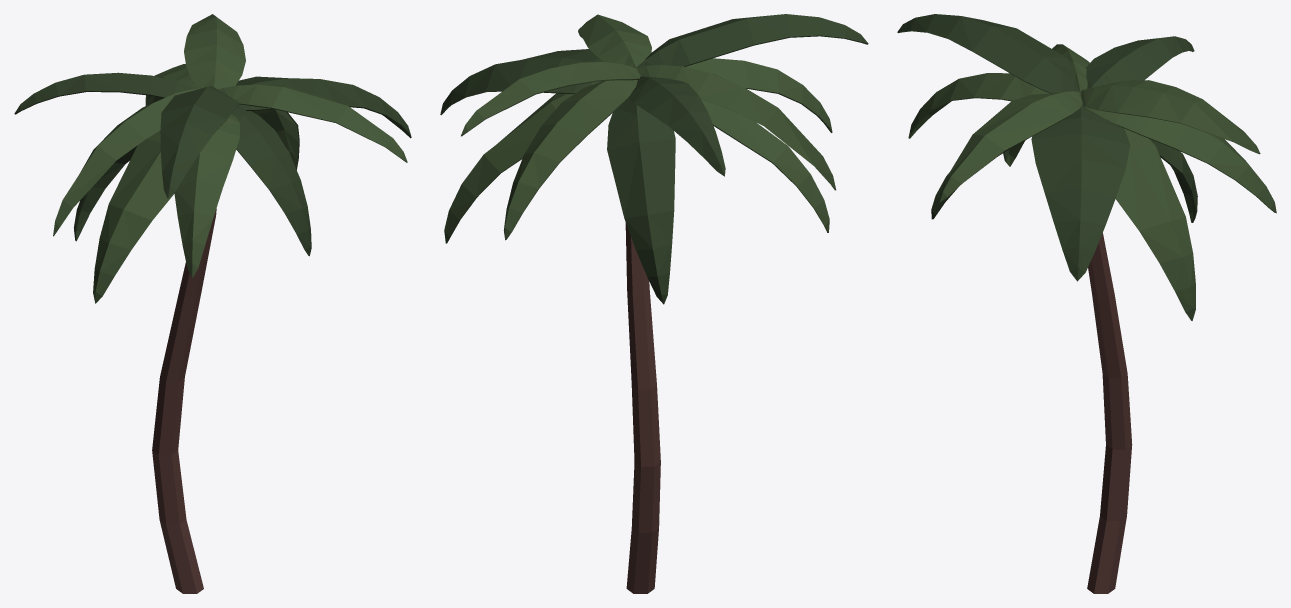
The model's file is palm-2.glb.
3 renders of one model, left to right at view 1: azimuth 30°, elevation 25°; view 2: azimuth 150°, elevation 25°; view 3: azimuth 270°, elevation 25°, orthographic.
Size of the model in its own units: 2.88 by 3.93 by 2.51.
